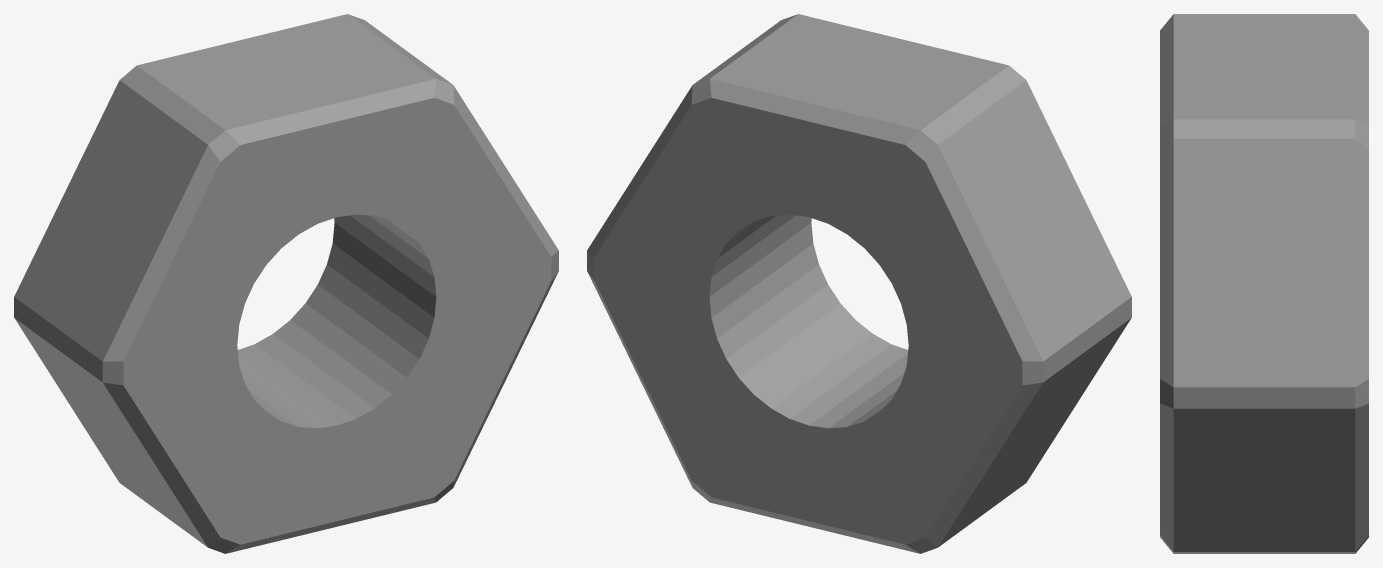
The model's file is Porca.fbx.
3 renders of one model, left to right at view 1: azimuth 30°, elevation 25°; view 2: azimuth 150°, elevation 25°; view 3: azimuth 270°, elevation 25°, orthographic. The views are drawn at different scales.
Parts seen in each view (by area): view 1: Porca; view 2: Porca; view 3: Porca.
Boxes of the visible parts, left/top/right/bottom form: Porca: left=14, top=14, right=558, bottom=553; Porca: left=587, top=14, right=1131, bottom=553; Porca: left=1160, top=14, right=1368, bottom=553.
Bounding box in the file's own units: 247 × 219 × 95.42.
1 material, 1 textured.
